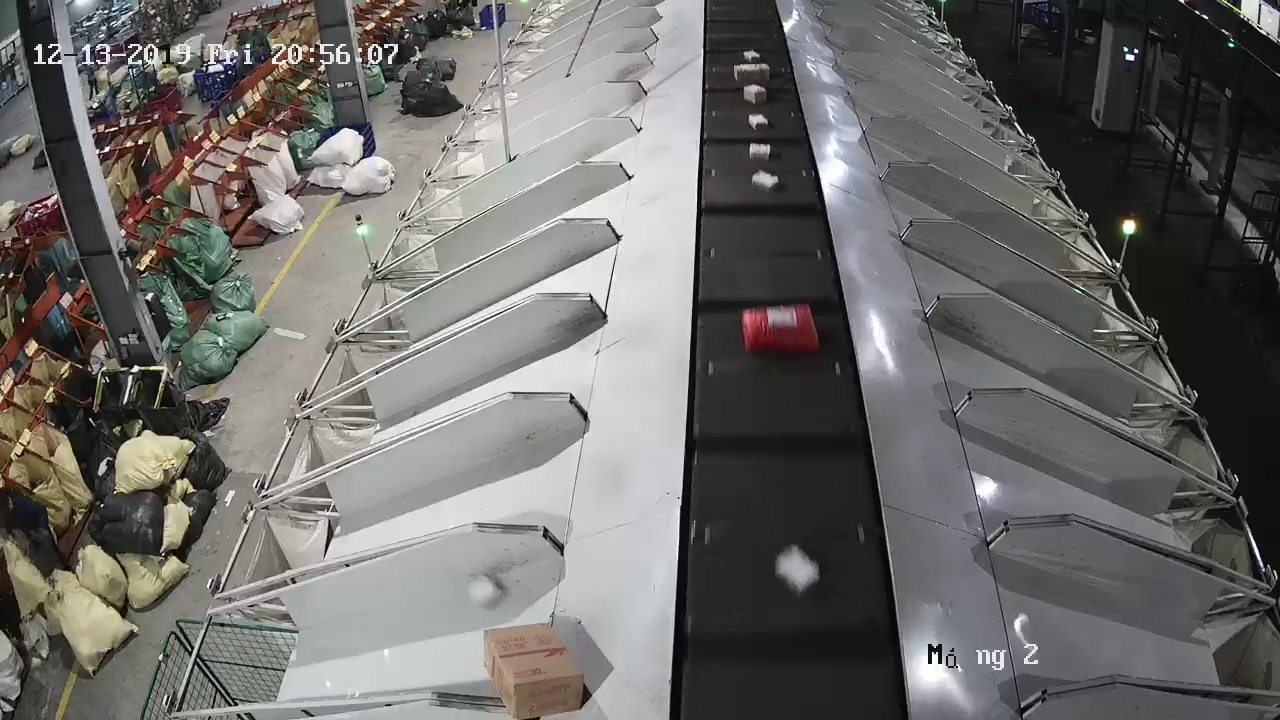parcel: (467, 575, 505, 606)
